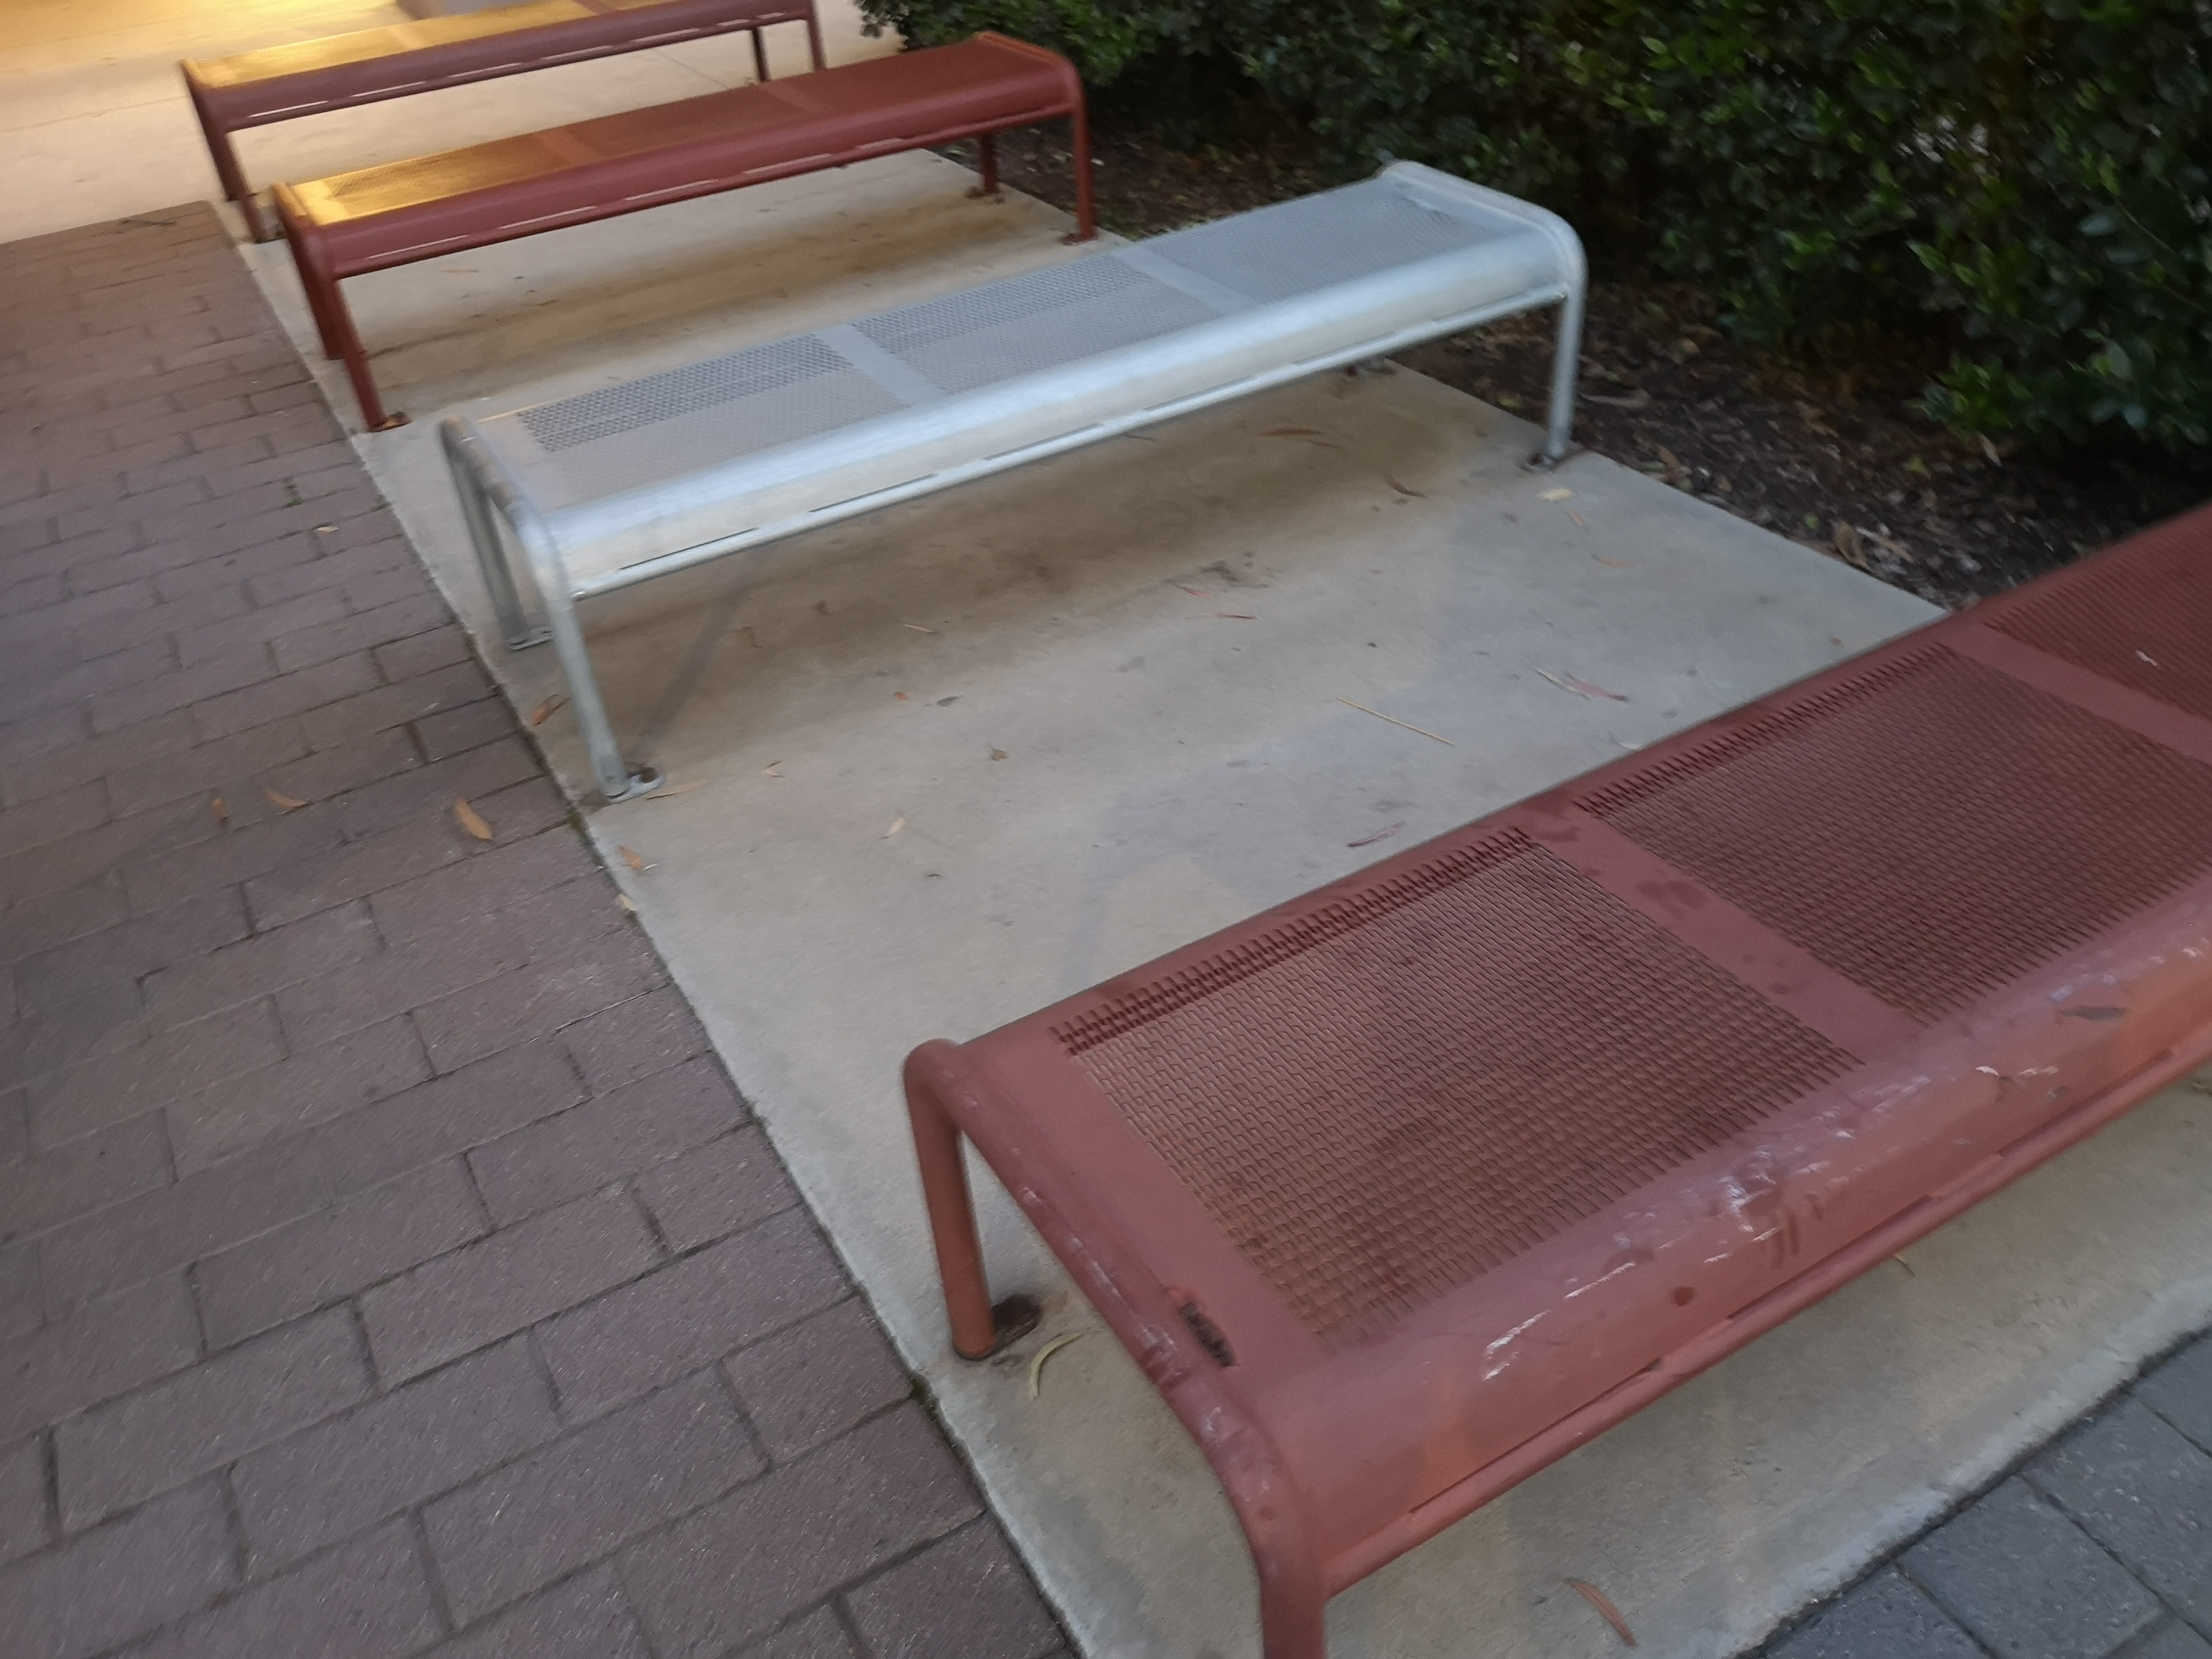Edge: (1453, 364, 1959, 652)
Obstacle: (794, 547, 2168, 1486), (129, 5, 1629, 772)
